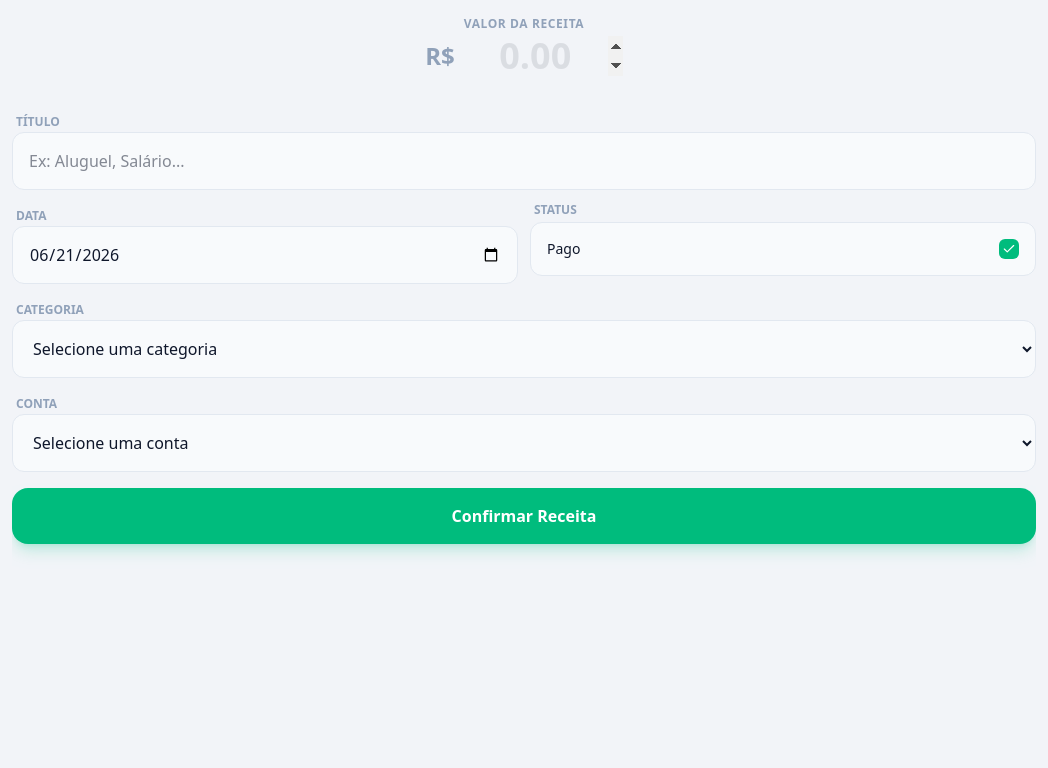
Test: TransactionForm › should toggle status
Click the button "Pago" at (564, 248), box [530,222,1036,276]
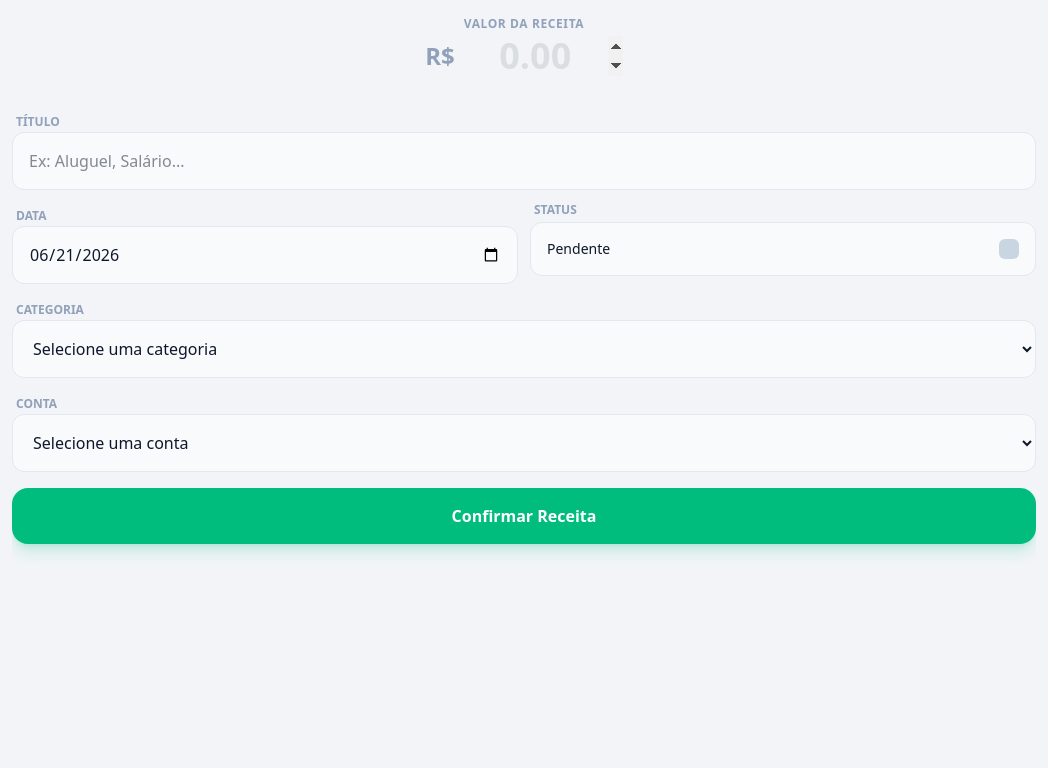
Now the text "Pendente" is shown, box [547,239,610,259]
Click the button "Pago" at (579, 248), box [530,222,1036,276]
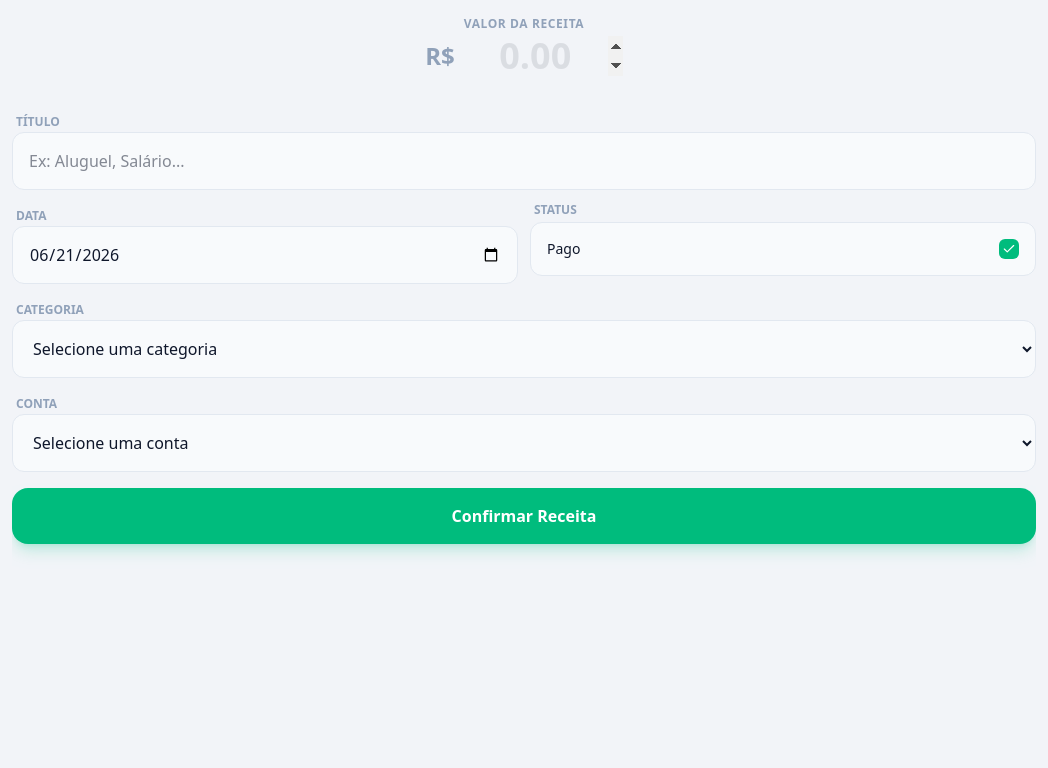
Now the text "Pago" is shown, box [547,239,580,259]
